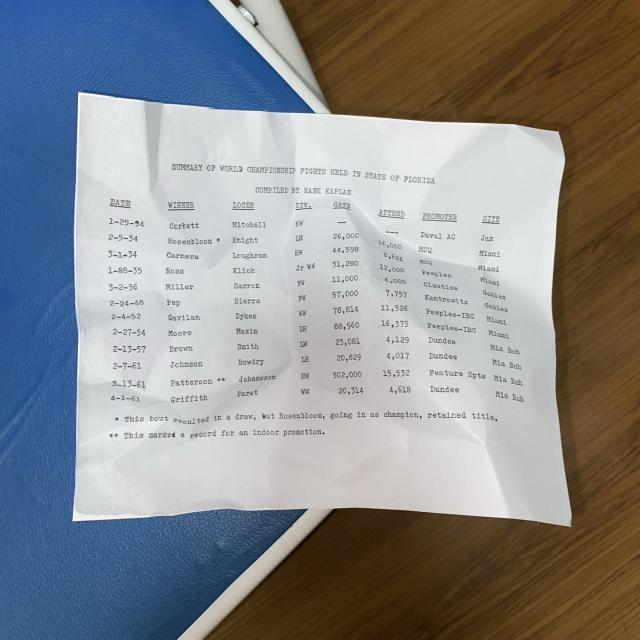document: (74, 93, 570, 525)
